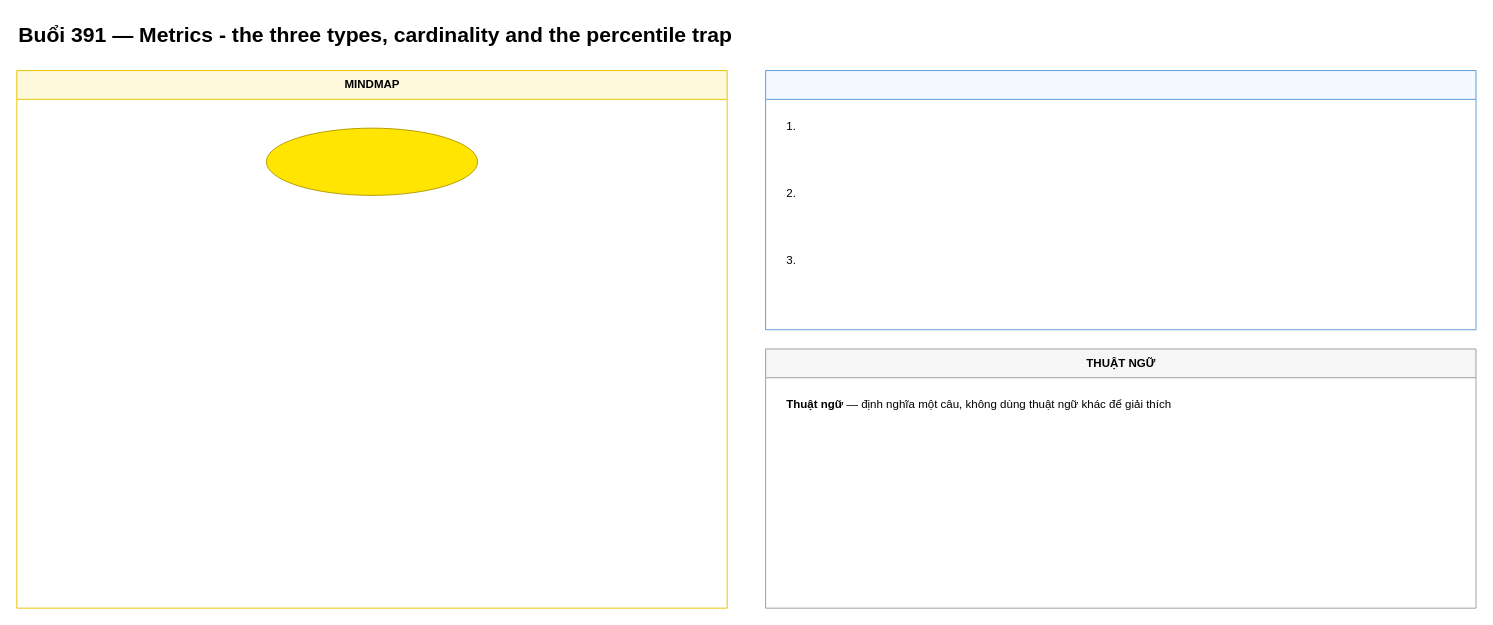
This 1493x625 diagram has some shape labels left out. Each missing label, with the box of its shape:
KEY TAKEAWAY — ba điều phải nhớ: (765, 70, 1476, 330)
Metrics - the three types, cardinality and the percentile trap: (265, 127, 478, 195)
